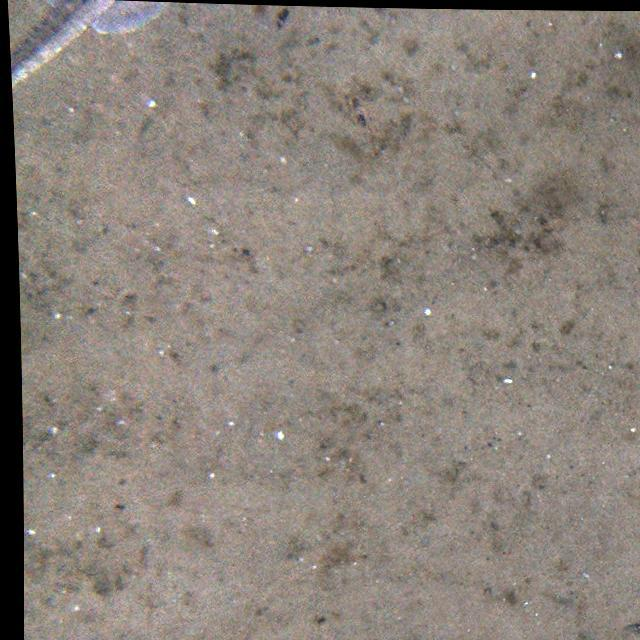skate: (9, 0, 169, 78)
